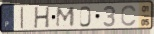0: (80, 6, 92, 28)
3: (102, 4, 117, 28)
C: (120, 4, 138, 27)
H: (33, 5, 51, 30)
I: (19, 6, 25, 31)
M: (55, 6, 76, 29)
